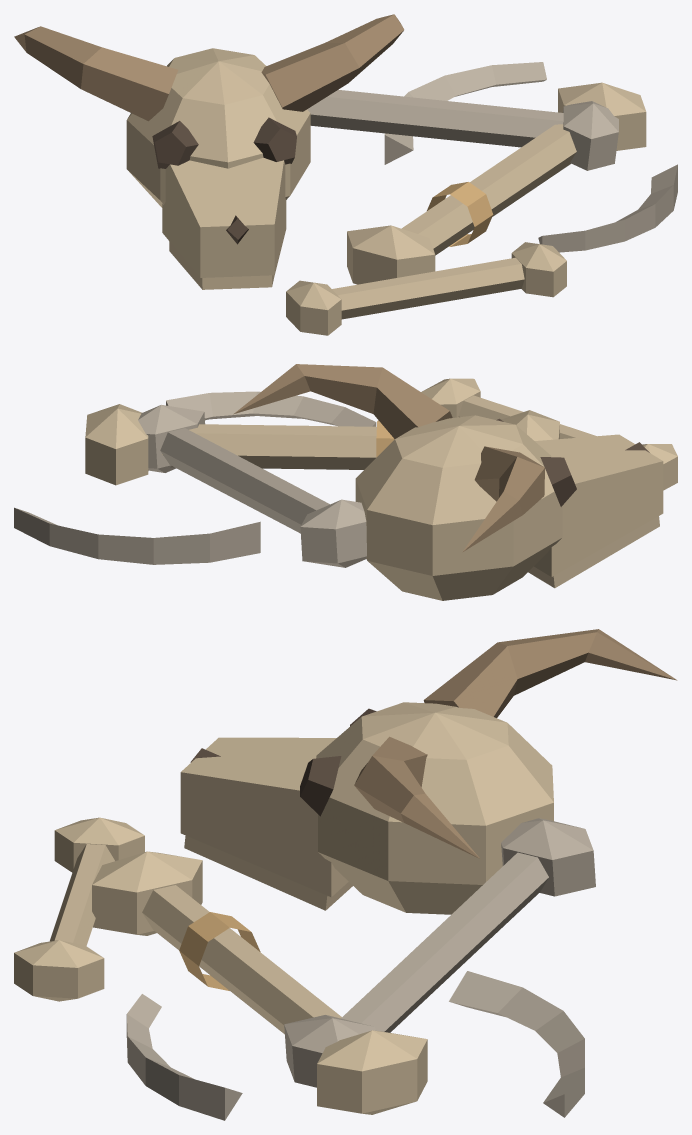
File: it-bone.glb
3 renders of one model, top to bottom at view 1: azimuth 30°, elevation 25°; view 2: azimuth 150°, elevation 25°; view 3: azimuth 270°, elevation 25°, orthographic. The views are drawn at different scales.
Parts seen in each view (by area): view 1: skull, femur, tibia, ulna, horn_l, horn_r, rib_b, rib_a, eye_sockets, bronze_band, jaw; view 2: skull, tibia, femur, horn_r, rib_a, horn_l, rib_b, ulna, jaw, eye_sockets, bronze_band; view 3: skull, femur, tibia, ulna, horn_l, rib_a, horn_r, rib_b, jaw, bronze_band, eye_sockets.
Boxes of the visible parts, x1,y1,x2,y2 form: skull: (126,48,310,277); femur: (347,82,646,284); tibia: (307,89,618,170); ulna: (286,242,566,335); horn_l: (14,26,178,121); horn_r: (261,14,404,111); rib_b: (538,164,677,252); rib_a: (384,62,546,164); eye_sockets: (152,117,296,244); bronze_band: (427,182,493,246); jaw: (169,241,274,289); skull: (355,415,663,600); tibia: (138,405,366,567); femur: (85,404,559,485); horn_r: (233,364,452,438); rib_a: (14,507,260,564); horn_l: (462,446,544,552); rib_b: (166,391,376,426); ulna: (421,378,677,490); jaw: (528,516,659,588); eye_sockets: (496,418,649,506); bronze_band: (376,420,394,457); skull: (180,702,553,914); femur: (92,851,427,1114); tibia: (284,818,595,1087); ulna: (14,817,144,1001); horn_l: (423,629,677,717); rib_a: (449,971,584,1117); horn_r: (354,736,479,858); rib_b: (126,994,242,1120); jaw: (184,836,352,910); bronze_band: (179,912,260,990); eye_sockets: (190,708,376,816).
Size of what is drawn, in the model's own units: 0.3398 by 0.1082 by 0.313.
